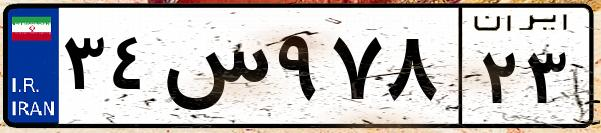2: (475, 38, 525, 113)
3: (57, 26, 110, 100), (525, 38, 570, 115)
4: (110, 28, 158, 98)
7: (330, 28, 385, 110)
8: (385, 28, 445, 110)
9: (270, 28, 330, 110)
س: (158, 20, 270, 120)
